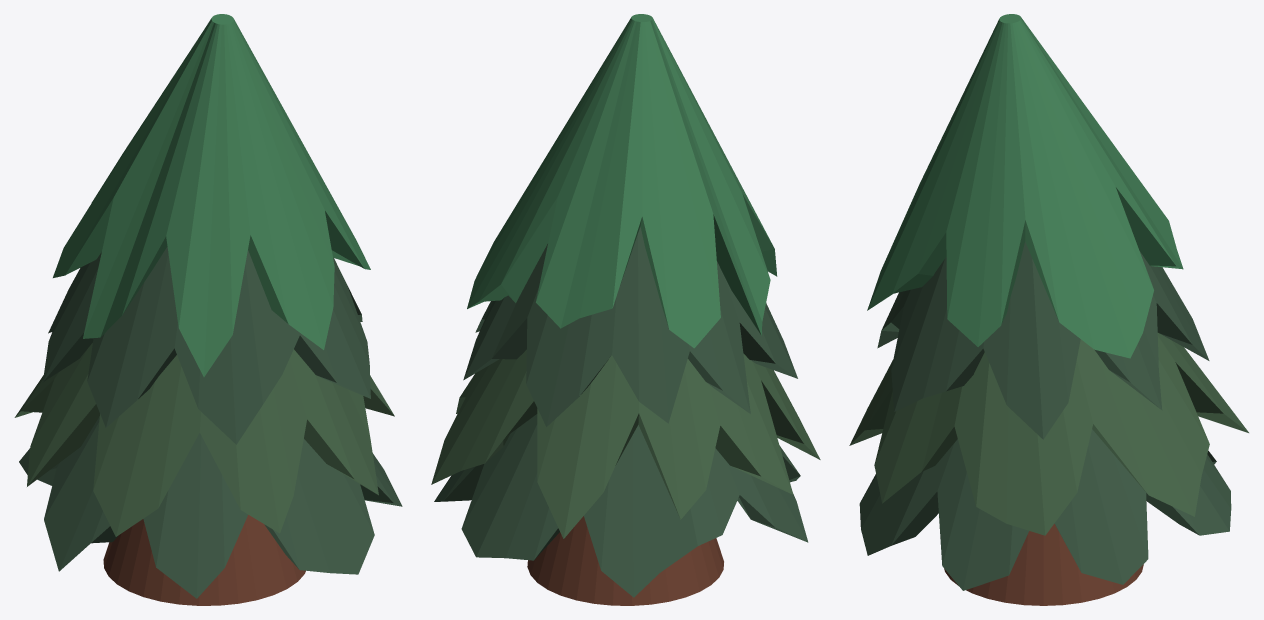
Rendered from Tree2.fbx.
3 renders of one model, left to right at view 1: azimuth 30°, elevation 25°; view 2: azimuth 150°, elevation 25°; view 3: azimuth 270°, elevation 25°, orthographic. The views are drawn at different scales.
Parts seen in each view (by area): view 1: Cylinder.014, Cylinder.011, Cylinder.012, Cylinder.010, Cylinder.001; view 2: Cylinder.014, Cylinder.011, Cylinder.010, Cylinder.012, Cylinder.001; view 3: Cylinder.014, Cylinder.011, Cylinder.012, Cylinder.010, Cylinder.001.
Part boxes in pixels (x1,y1,x2,y2): Cylinder.014: [53, 14, 370, 376]; Cylinder.011: [14, 343, 394, 536]; Cylinder.012: [43, 246, 370, 444]; Cylinder.010: [19, 417, 402, 598]; Cylinder.001: [103, 515, 305, 605]; Cylinder.014: [467, 14, 777, 348]; Cylinder.011: [431, 349, 820, 538]; Cylinder.010: [434, 414, 808, 597]; Cylinder.012: [463, 226, 797, 426]; Cylinder.001: [527, 516, 723, 605]; Cylinder.014: [867, 14, 1183, 358]; Cylinder.011: [849, 333, 1248, 535]; Cylinder.012: [877, 242, 1209, 439]; Cylinder.010: [859, 429, 1231, 590]; Cylinder.001: [944, 524, 1143, 605].
Bounding box in the file's own units: 535 × 807 × 537.
